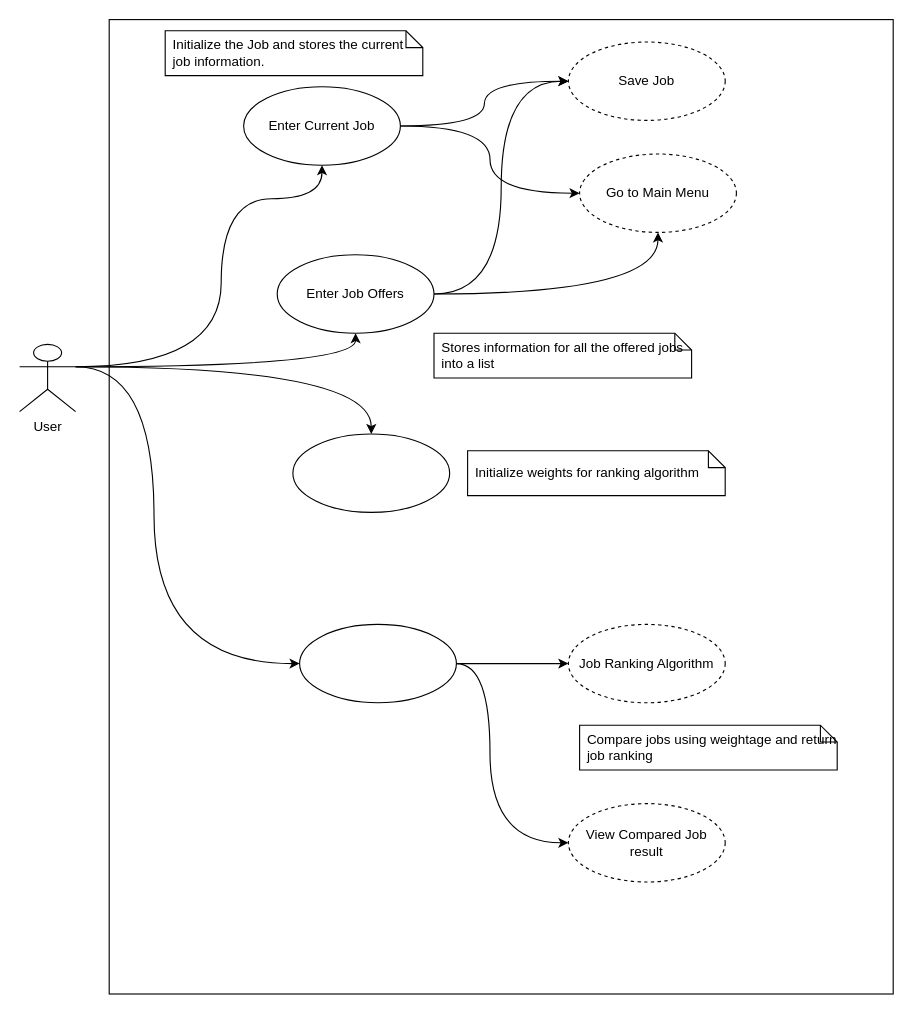
This 913x1014 diagram has some shape labels left out. Each missing label, with the centre of its shape:
"Compare Jobs" goes at point (377, 663).
"Provide Job Comparison Weights" goes at point (371, 472).
